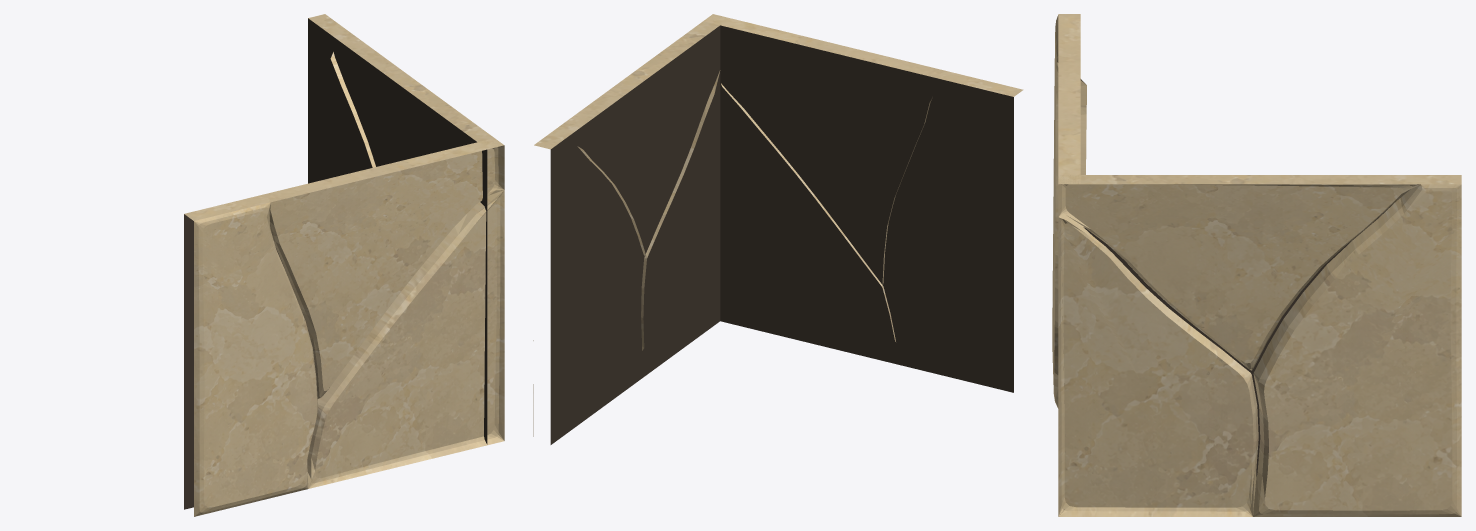
Rendered from ground_corner_08.glb.
The picture shows the model from 3 angles, left to right: view 1: azimuth 30°, elevation 25°; view 2: azimuth 150°, elevation 25°; view 3: azimuth 270°, elevation 25°; orthographic projection. The views are drawn at different scales.
Parts seen in each view (by area): view 1: GroundCorner08_Body; view 2: GroundCorner08_Body; view 3: GroundCorner08_Body.
Part boxes in pixels (left/top/right/bottom): GroundCorner08_Body: left=184, top=14, right=504, bottom=516; GroundCorner08_Body: left=533, top=14, right=1023, bottom=444; GroundCorner08_Body: left=1052, top=14, right=1461, bottom=516.
Bounding box in the file's own units: 1.02 × 0.91 × 1.02.
Materials: 8 (7 with a texture image).
